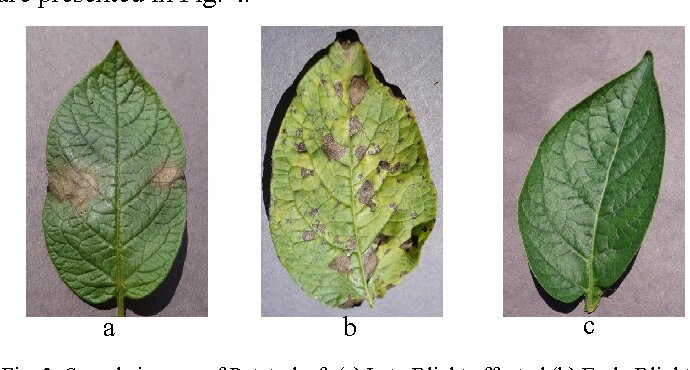potato_leaf: (269, 33, 439, 309), (42, 40, 191, 316), (515, 46, 668, 314)
